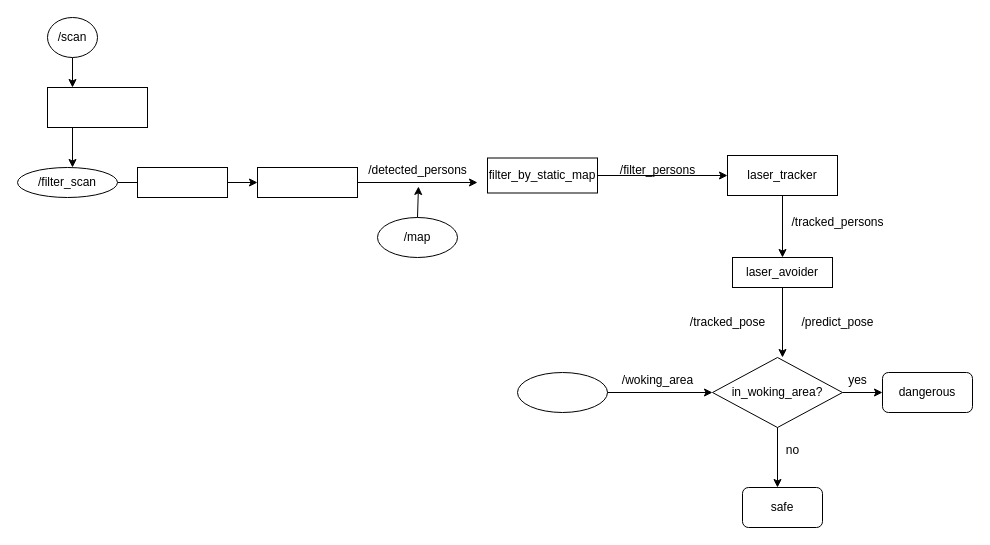
Some shapes in this 990 by 545 pixel diagram are drawn without their labels. The centre of each missing label's shape, as x and y in pixels:
"/chassis_pose" belongs at point 562,392.
"filter_arm_cloud" belongs at point 97,107.
"laser_detector" belongs at point 307,182.
"laser_segment" belongs at point 182,182.
